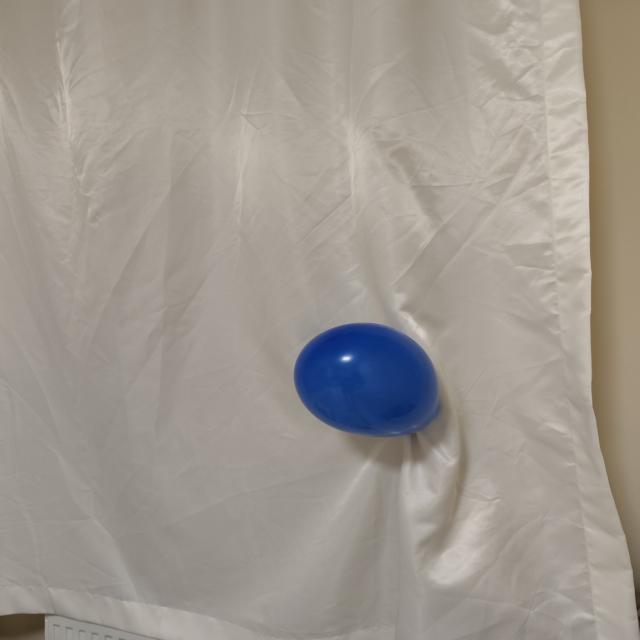balloon: (294, 323, 439, 437)
